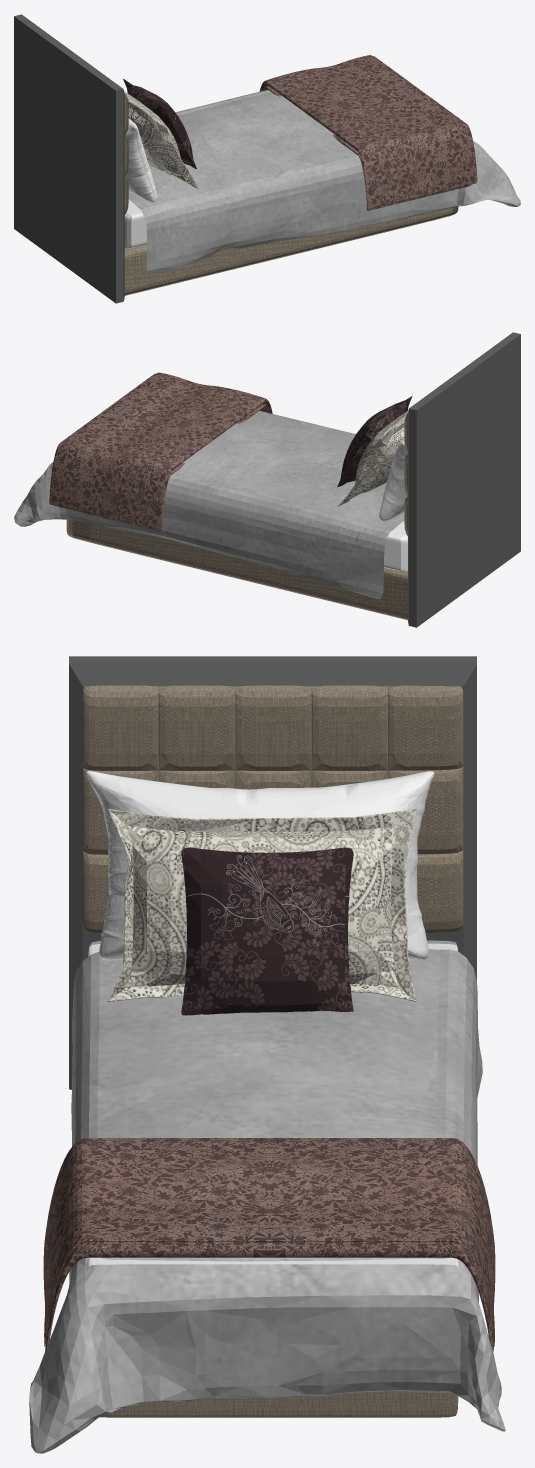
The model's file is girls_bed.glb.
The picture shows the model from 3 angles, top to bottom: view 1: azimuth 30°, elevation 25°; view 2: azimuth 150°, elevation 25°; view 3: azimuth 270°, elevation 25°; orthographic projection. The views are drawn at different scales.
Parts seen in each view (by area): view 1: mesh_0_ROOT__Component_48__arthur-SUFDM-012-007#2__Component, mesh_12_ROOT__Component_48__Component_49__Component_50__Comp, mesh_14_ROOT__Component_48__Component_10404__Component_10405, mesh_3_ROOT__Component_48__Component_49__Component_4626__Gro, mesh_16_ROOT__Component_48__Component_10404__Component_10405, mesh_18_ROOT__Component_48__群组#20_Layer0_206_204_192_ss, mesh_1_ROOT__Component_48__Component_23084_Layer0_226_226_22, mesh_8_ROOT__Component_48__Component_49__Component_4626__Gro, mesh_20_ROOT__Component_48__群组#21_Layer0_95_80_83_ss, mesh_22_ROOT__Component_48__群组#21__Component_53099_Layer0_95, mesh_10_ROOT__Component_48__Component_49__Component_50__Grup; view 2: mesh_0_ROOT__Component_48__arthur-SUFDM-012-007#2__Component, mesh_12_ROOT__Component_48__Component_49__Component_50__Comp, mesh_16_ROOT__Component_48__Component_10404__Component_10405, mesh_3_ROOT__Component_48__Component_49__Component_4626__Gro, mesh_14_ROOT__Component_48__Component_10404__Component_10405, mesh_18_ROOT__Component_48__群组#20_Layer0_206_204_192_ss, mesh_1_ROOT__Component_48__Component_23084_Layer0_226_226_22, mesh_20_ROOT__Component_48__群组#21_Layer0_95_80_83_ss, mesh_8_ROOT__Component_48__Component_49__Component_4626__Gro, mesh_22_ROOT__Component_48__群组#21__Component_53099_Layer0_95, mesh_10_ROOT__Component_48__Component_49__Component_50__Grup; view 3: mesh_0_ROOT__Component_48__arthur-SUFDM-012-007#2__Component, mesh_10_ROOT__Component_48__Component_49__Component_50__Grup, mesh_18_ROOT__Component_48__群组#20_Layer0_206_204_192_ss, mesh_16_ROOT__Component_48__Component_10404__Component_10405, mesh_14_ROOT__Component_48__Component_10404__Component_10405, mesh_22_ROOT__Component_48__群组#21__Component_53099_Layer0_95, mesh_12_ROOT__Component_48__Component_49__Component_50__Comp, mesh_1_ROOT__Component_48__Component_23084_Layer0_226_226_22, mesh_3_ROOT__Component_48__Component_49__Component_4626__Gro, mesh_8_ROOT__Component_48__Component_49__Component_4626__Gro.
Boxes of the visible parts, x1=… form: mesh_0_ROOT__Component_48__arthur-SUFDM-012-007#2__Component: x1=128, y1=90, x2=520, y2=274; mesh_12_ROOT__Component_48__Component_49__Component_50__Comp: x1=14, y1=14, x2=124, y2=303; mesh_14_ROOT__Component_48__Component_10404__Component_10405: x1=311, y1=89, x2=477, y2=210; mesh_3_ROOT__Component_48__Component_49__Component_4626__Gro: x1=124, y1=207, x2=458, y2=295; mesh_16_ROOT__Component_48__Component_10404__Component_10405: x1=259, y1=55, x2=419, y2=116; mesh_18_ROOT__Component_48__群组#20_Layer0_206_204_192_ss: x1=124, y1=91, x2=198, y2=188; mesh_1_ROOT__Component_48__Component_23084_Layer0_226_226_22: x1=126, y1=118, x2=157, y2=202; mesh_8_ROOT__Component_48__Component_49__Component_4626__Gro: x1=124, y1=199, x2=146, y2=248; mesh_20_ROOT__Component_48__群组#21_Layer0_95_80_83_ss: x1=123, y1=79, x2=196, y2=169; mesh_22_ROOT__Component_48__群组#21__Component_53099_Layer0_95: x1=125, y1=80, x2=196, y2=167; mesh_10_ROOT__Component_48__Component_49__Component_50__Grup: x1=124, y1=93, x2=128, y2=214; mesh_0_ROOT__Component_48__arthur-SUFDM-012-007#2__Component: x1=14, y1=411, x2=404, y2=598; mesh_12_ROOT__Component_48__Component_49__Component_50__Comp: x1=408, y1=332, x2=520, y2=627; mesh_16_ROOT__Component_48__Component_10404__Component_10405: x1=49, y1=407, x2=218, y2=531; mesh_3_ROOT__Component_48__Component_49__Component_4626__Gro: x1=66, y1=519, x2=407, y2=620; mesh_14_ROOT__Component_48__Component_10404__Component_10405: x1=108, y1=372, x2=272, y2=435; mesh_18_ROOT__Component_48__群组#20_Layer0_206_204_192_ss: x1=337, y1=410, x2=408, y2=506; mesh_1_ROOT__Component_48__Component_23084_Layer0_226_226_22: x1=379, y1=438, x2=407, y2=520; mesh_20_ROOT__Component_48__群组#21_Layer0_95_80_83_ss: x1=337, y1=396, x2=412, y2=487; mesh_8_ROOT__Component_48__Component_49__Component_4626__Gro: x1=384, y1=521, x2=407, y2=571; mesh_22_ROOT__Component_48__群组#21__Component_53099_Layer0_95: x1=337, y1=397, x2=409, y2=486; mesh_10_ROOT__Component_48__Component_49__Component_50__Grup: x1=404, y1=413, x2=407, y2=536; mesh_0_ROOT__Component_48__arthur-SUFDM-012-007#2__Component: x1=29, y1=949, x2=505, y2=1453; mesh_10_ROOT__Component_48__Component_49__Component_50__Grup: x1=82, y1=685, x2=463, y2=933; mesh_18_ROOT__Component_48__群组#20_Layer0_206_204_192_ss: x1=108, y1=808, x2=416, y2=1001; mesh_16_ROOT__Component_48__Component_10404__Component_10405: x1=269, y1=1138, x2=495, y2=1351; mesh_14_ROOT__Component_48__Component_10404__Component_10405: x1=43, y1=1138, x2=269, y2=1351; mesh_22_ROOT__Component_48__群组#21__Component_53099_Layer0_95: x1=181, y1=847, x2=353, y2=1015; mesh_12_ROOT__Component_48__Component_49__Component_50__Comp: x1=69, y1=656, x2=476, y2=1089; mesh_1_ROOT__Component_48__Component_23084_Layer0_226_226_22: x1=86, y1=771, x2=434, y2=960; mesh_3_ROOT__Component_48__Component_49__Component_4626__Gro: x1=100, y1=1391, x2=458, y2=1417; mesh_8_ROOT__Component_48__Component_49__Component_4626__Gro: x1=87, y1=940, x2=458, y2=1271.
Bounding box in the file's own units: 2254 × 1150 × 1168.
10 materials, 5 textured.
